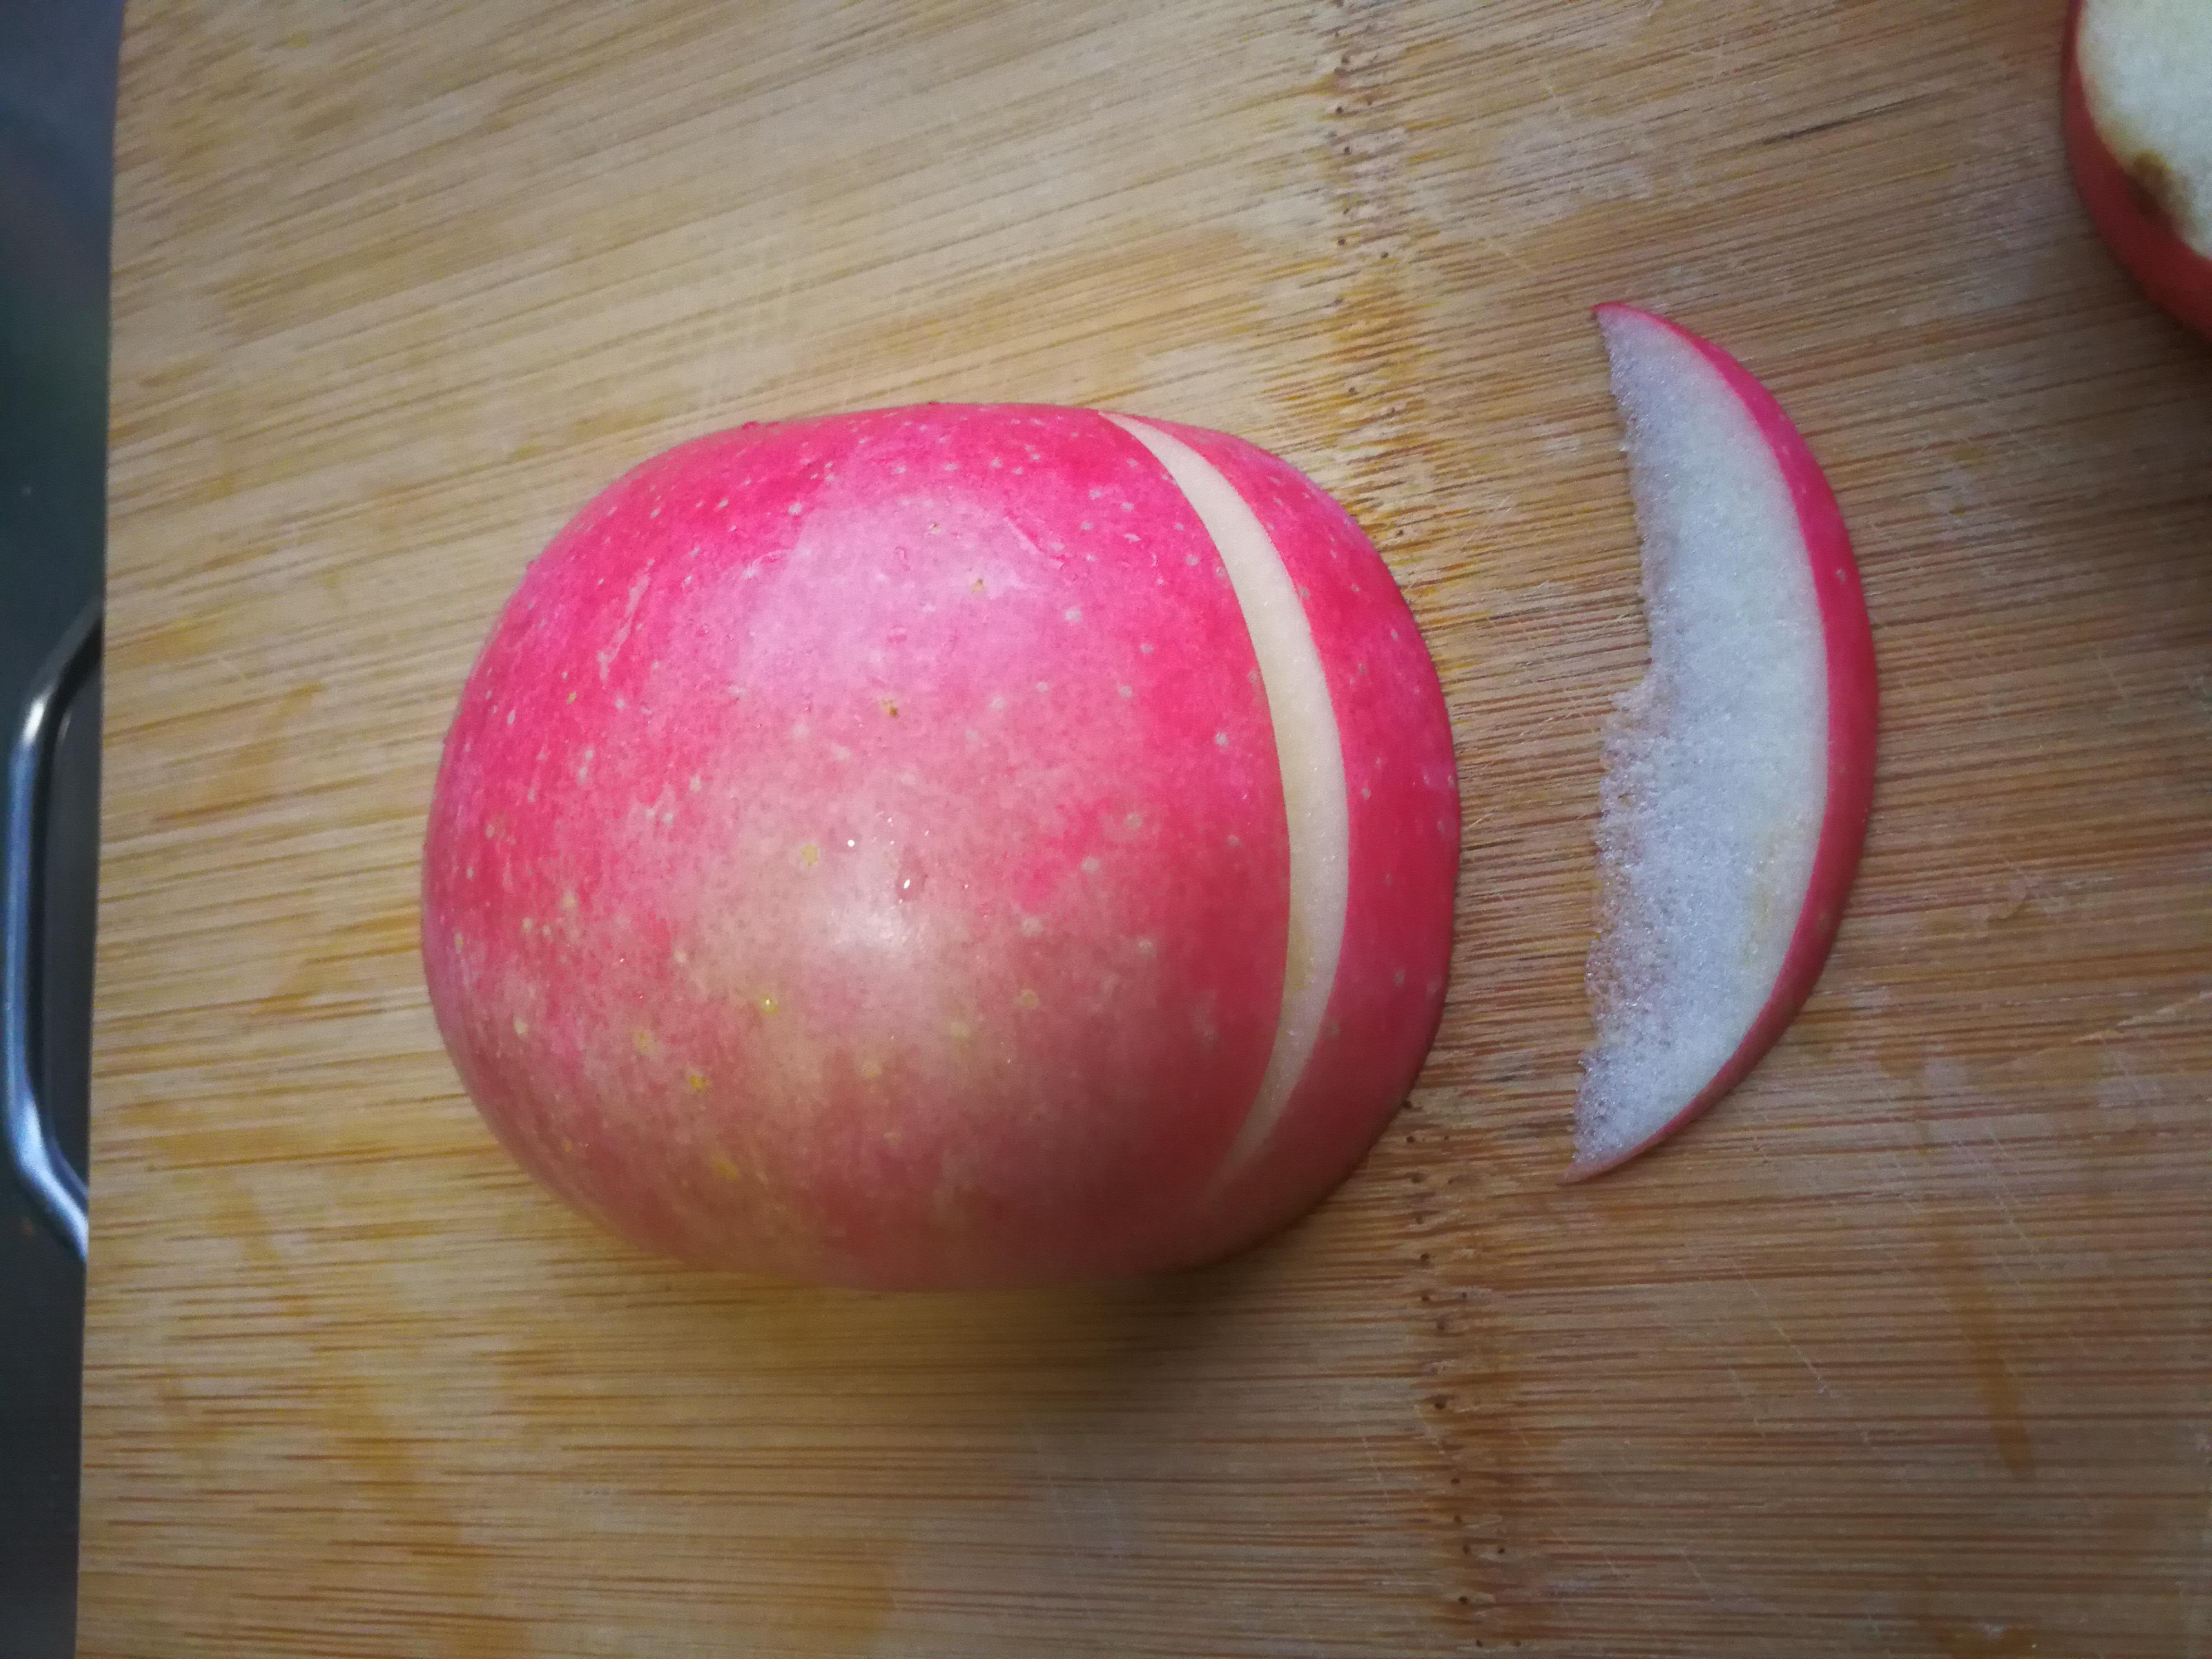apple: (416, 396, 1465, 1303)
